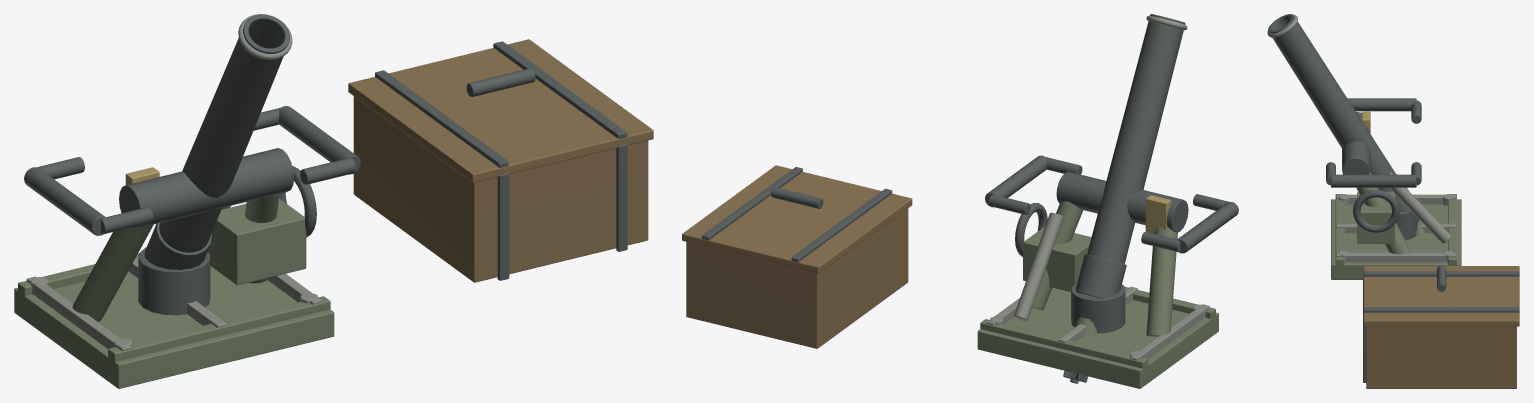
File: mortar50.glb
3 views of the same model, side by side, from view 1: azimuth 30°, elevation 25°; view 2: azimuth 150°, elevation 25°; view 3: azimuth 270°, elevation 25° (orthographic). The views are drawn at different scales.
Parts seen in each view (by area): view 1: wooden_chest, chest_lid, baseplate, mortar_tube, mount_trunnion, range_regulator, ball_socket, short_mount_arm, baseplate_flange.001, carry_handle, carry_handle.001, steel_chest_band (+15 smaller); view 2: wooden_chest, chest_lid, baseplate, mortar_tube, mount_trunnion, short_mount_arm, range_regulator, baseplate_flange, ball_socket, elevation_adjuster, breech_cap, short_mount_arm.001 (+11 smaller); view 3: wooden_chest, chest_lid, mortar_tube, baseplate, carry_handle.001, range_regulator, pressed_baseplate_rib.002, mount_trunnion, range_dial, elevation_adjuster, steel_chest_band.002, steel_chest_band (+10 smaller).
Boxes of the visible parts, x1,y1,x2,y2 form: wooden_chest: [353, 96, 648, 282]; chest_lid: [348, 39, 653, 182]; baseplate: [14, 266, 334, 388]; mortar_tube: [159, 14, 289, 252]; mount_trunnion: [119, 148, 293, 228]; range_regulator: [207, 198, 306, 285]; ball_socket: [138, 247, 210, 315]; short_mount_arm: [72, 224, 153, 321]; baseplate_flange.001: [108, 296, 330, 365]; carry_handle: [24, 167, 105, 235]; carry_handle.001: [278, 106, 360, 174]; steel_chest_band: [375, 70, 508, 167]; wooden_chest: [686, 208, 908, 348]; chest_lid: [682, 165, 912, 273]; baseplate: [977, 288, 1218, 388]; mortar_tube: [1087, 14, 1185, 263]; mount_trunnion: [1056, 171, 1188, 232]; short_mount_arm: [1146, 227, 1177, 336]; range_regulator: [1023, 226, 1091, 291]; baseplate_flange: [980, 319, 1148, 369]; ball_socket: [1071, 282, 1125, 333]; elevation_adjuster: [1014, 212, 1063, 321]; breech_cap: [1076, 254, 1126, 298]; short_mount_arm.001: [1032, 201, 1083, 310]; wooden_chest: [1366, 326, 1516, 388]; chest_lid: [1363, 266, 1519, 326]; mortar_tube: [1268, 14, 1396, 191]; baseplate: [1331, 199, 1461, 279]; carry_handle.001: [1331, 174, 1416, 187]; range_regulator: [1357, 191, 1394, 243]; pressed_baseplate_rib.002: [1336, 252, 1456, 262]; mount_trunnion: [1342, 111, 1370, 174]; range_dial: [1353, 189, 1399, 232]; elevation_adjuster: [1385, 171, 1450, 243]; steel_chest_band.002: [1363, 307, 1519, 312]; steel_chest_band: [1363, 271, 1519, 276].
Bounding box in the file's own units: 0.843 × 0.5565 × 0.5016.
